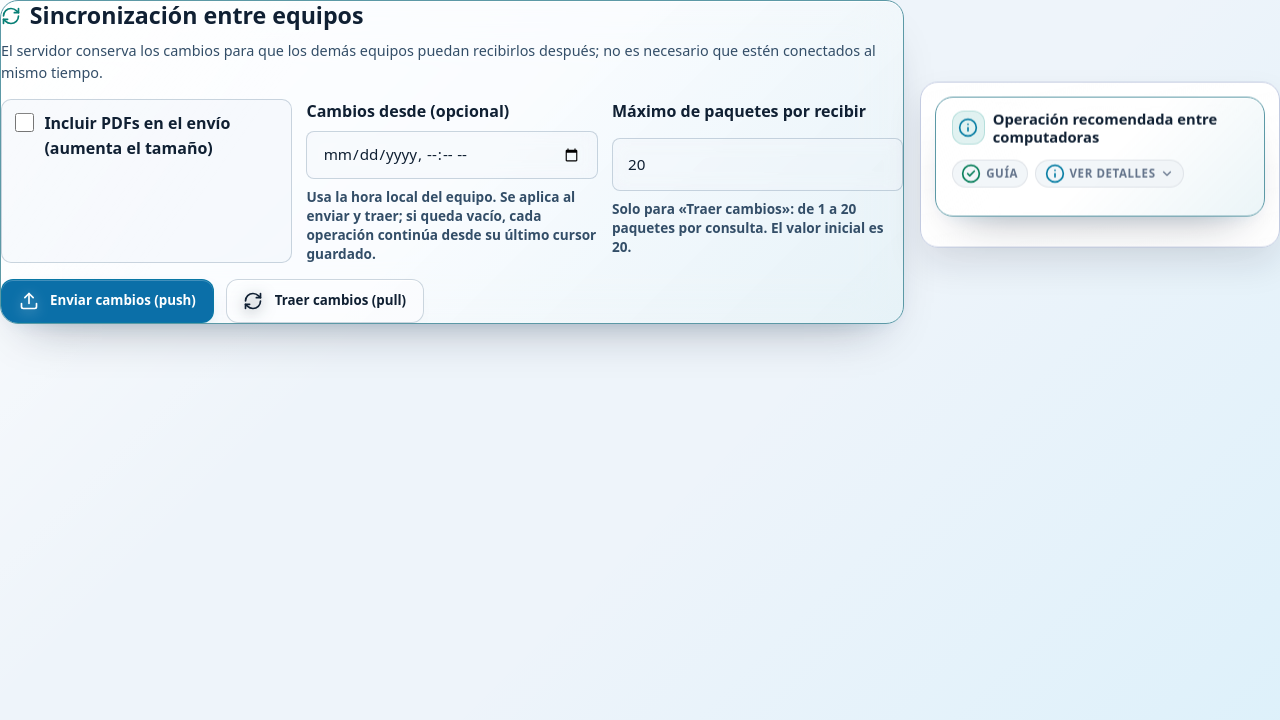
Scenario: SeccionSincronizacionEquipos › permite enviar cambios (push) al servidor intermedio con PDFs opcionales
Click the checkbox labelled "Incluir PDFs en el envío (aumenta el tamaño)" at (24, 123), box [15,113,34,132]
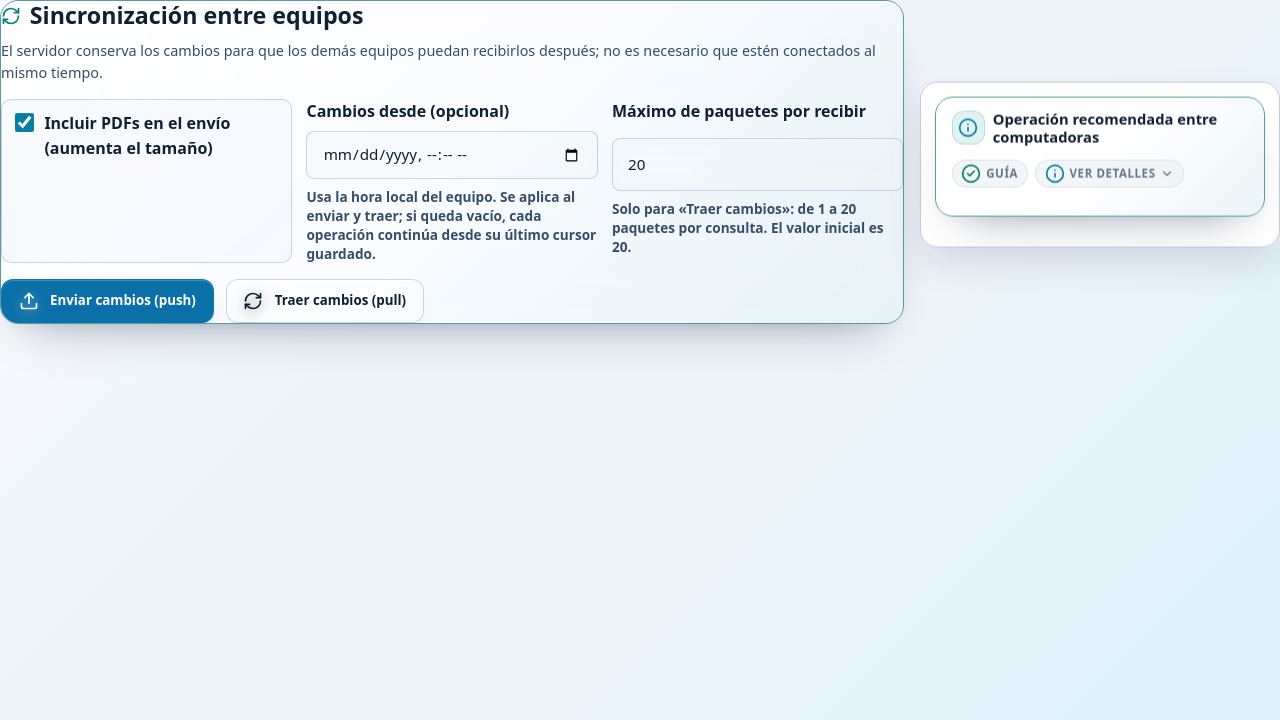
Click the button "Enviar cambios (push)" at (107, 301), box [1,279,214,323]
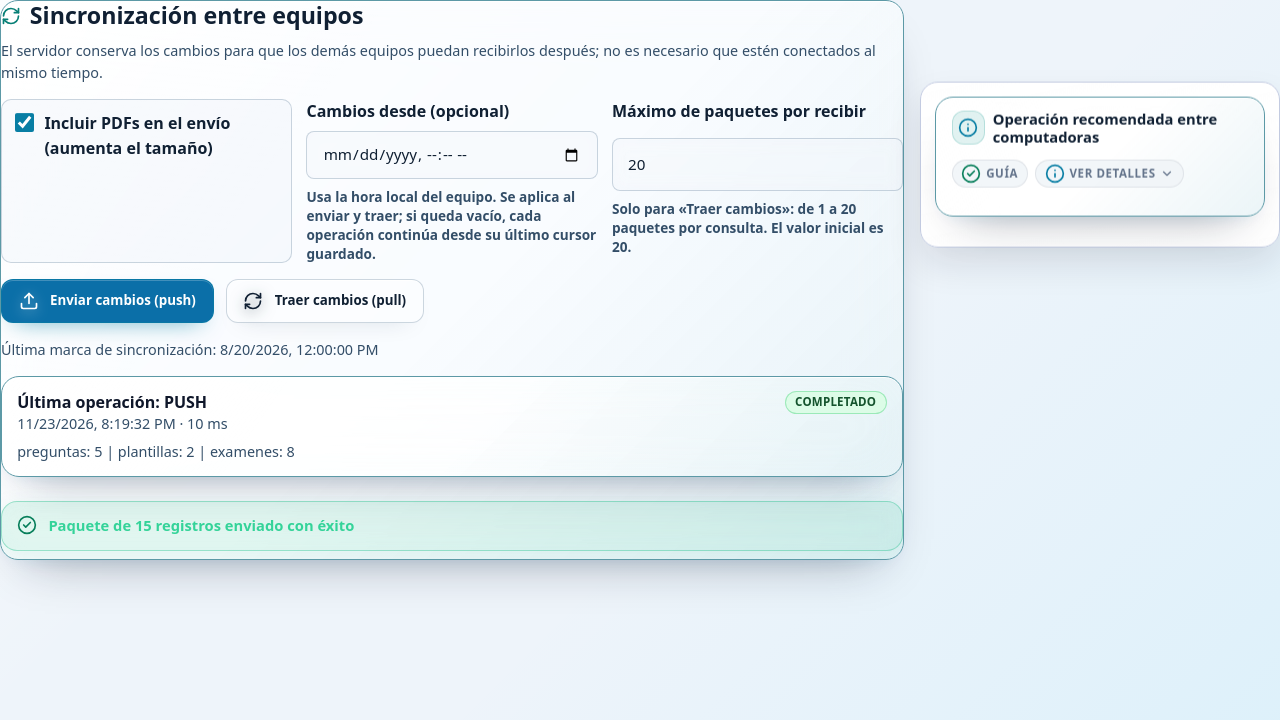
Result: the message shows "Paquete de 15 registros enviado" at [48,515,354,535]
